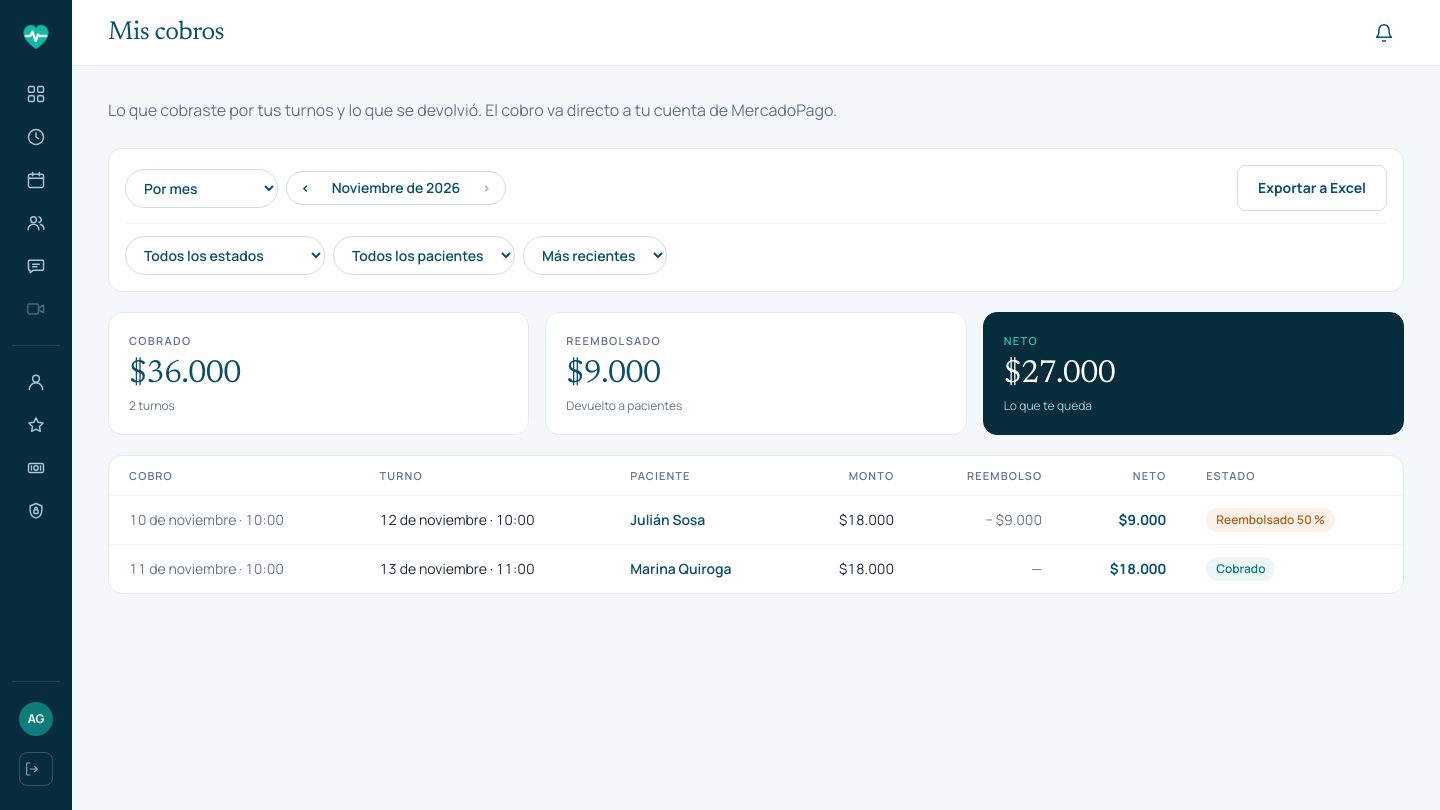
Scenario: ProfessionalEarningsPage (ENG-194) › elige otros períodos: este año y un rango a mano
Expected: the cell "Julián Sosa" is shown, x1=610 y1=496 x2=792 y2=545
Select "Este año" in the dropdown named "Período" next to "Noviembre de 2026": (202, 188) x1=125 y1=168 x2=278 y2=208
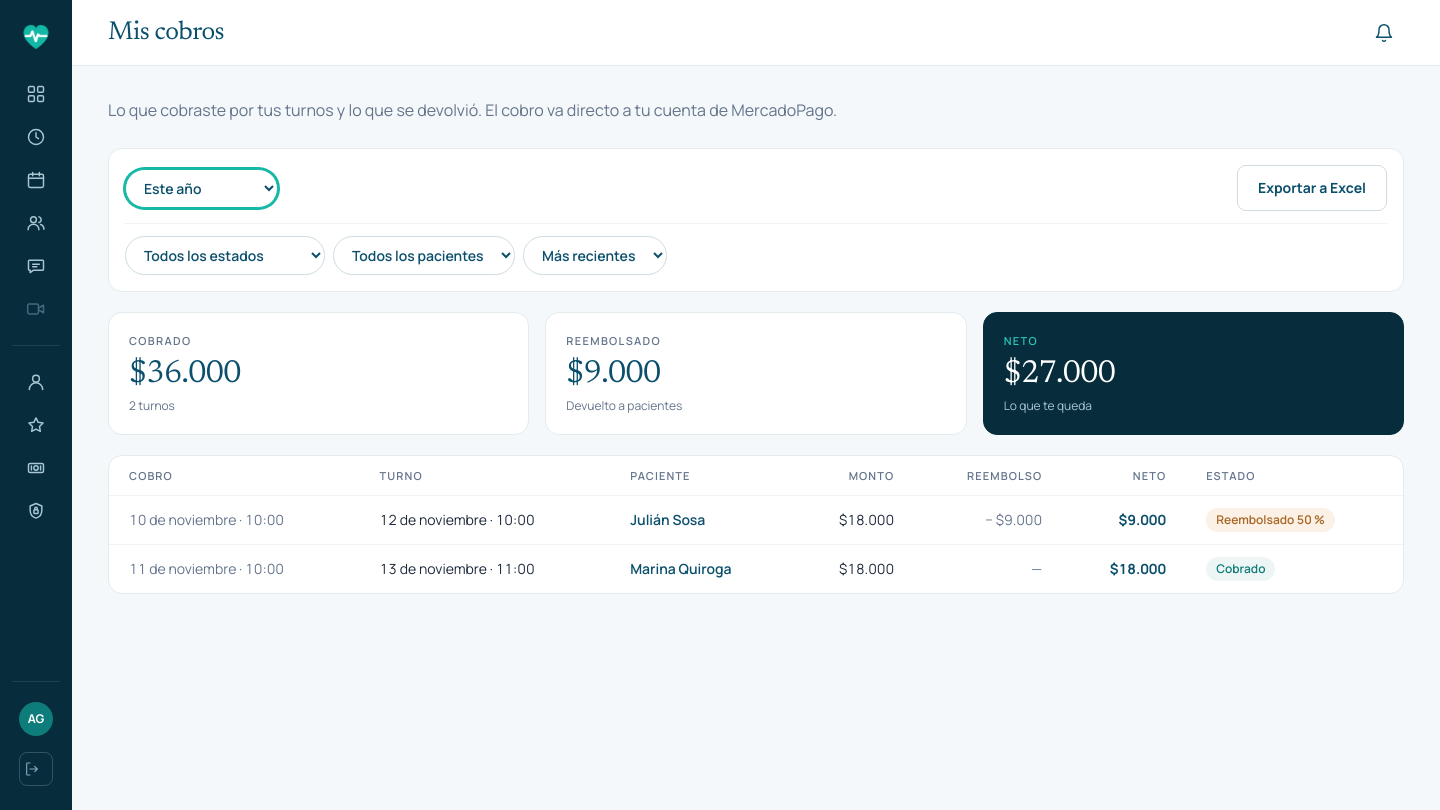
Select "Elegir fechas" in the 1st dropdown named "Período": (202, 188) x1=125 y1=168 x2=278 y2=208
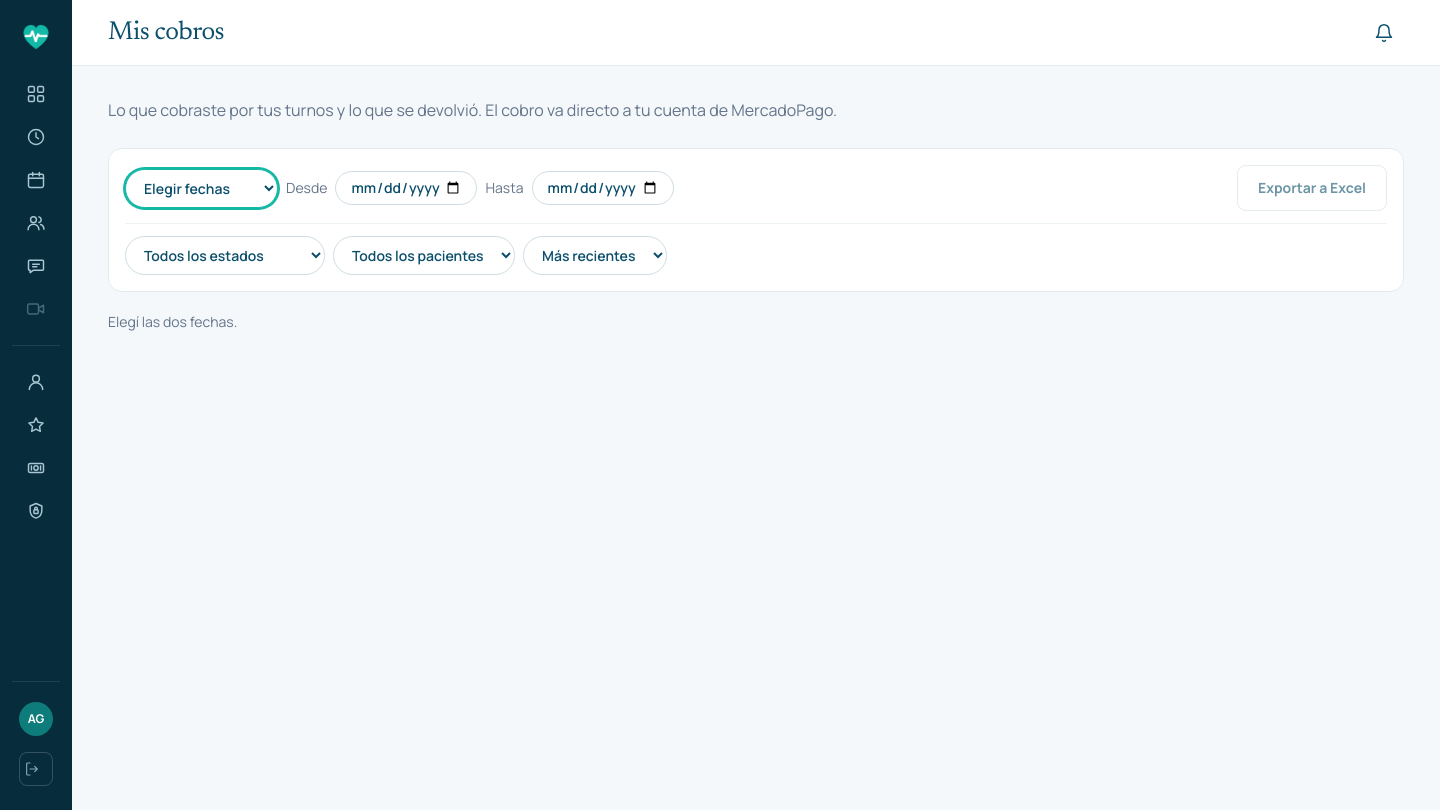
Expected: the text "Elegí las dos fechas." is shown, x1=108 y1=312 x2=237 y2=331
